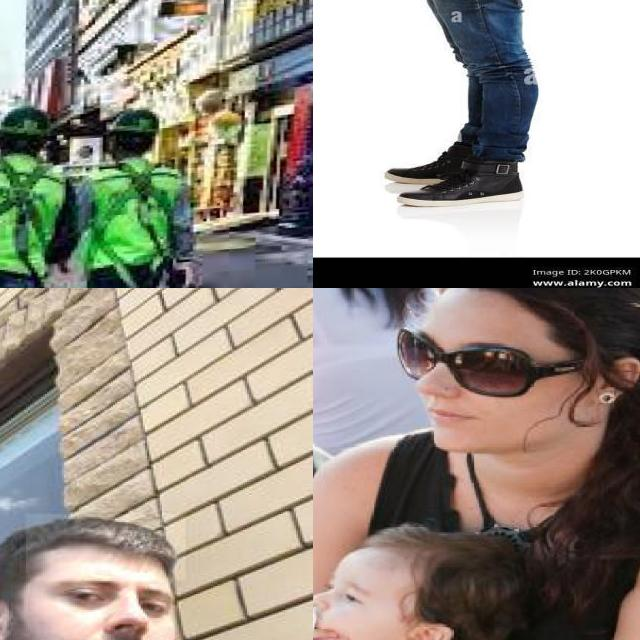Harness: (86, 160, 186, 287), (0, 155, 49, 260)
No_Ear-Protection: (0, 595, 18, 640)
face_nomask: (395, 327, 523, 438), (34, 563, 176, 640)
glasses: (391, 339, 592, 399)
hand_noglove: (313, 608, 355, 640)
head_nohelmet: (26, 514, 187, 581), (426, 288, 640, 329), (332, 521, 482, 579)
person: (313, 288, 640, 640), (374, 0, 549, 207)
